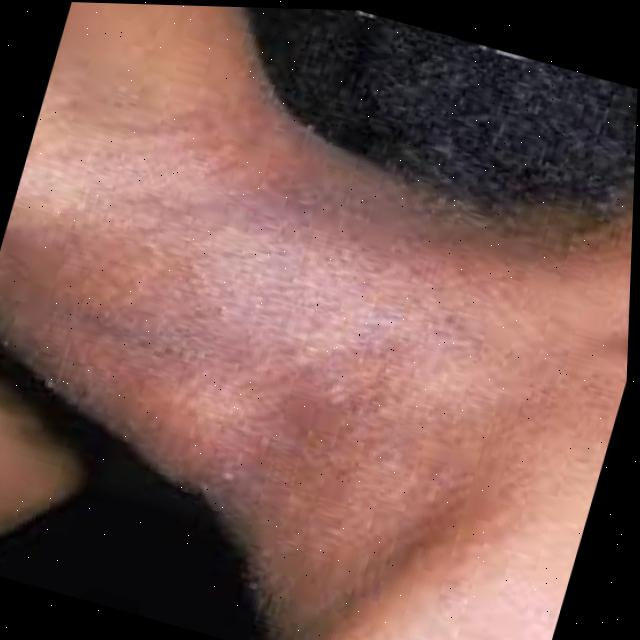Eczema: (11, 82, 518, 541)
